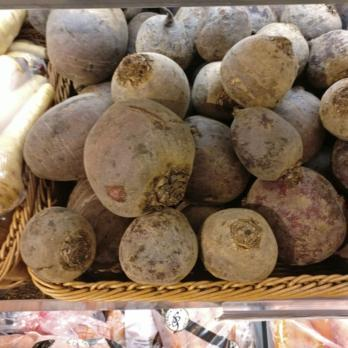beetroot: (178, 7, 348, 279), (31, 1, 180, 285)
